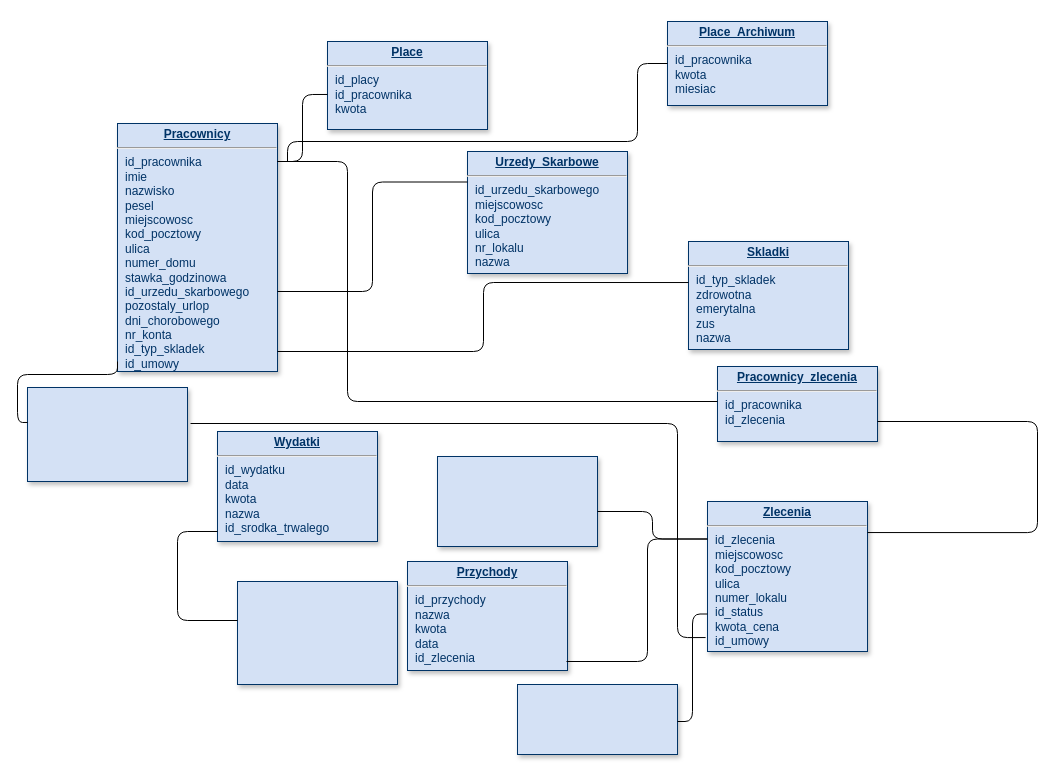
Image size: 1056x779. Some labels were removed from this diagram. Here are the shapes that lost their labels. From the top down, the centre of each, then its label:
At pixel 108 435: "Umowy id_umowy umowa data_zawarcia data_wygasniecia".
At pixel 518 503: "Faktury id_faktury id_zlecenia faktura".
At pixel 318 634: "Srodki_Trwale id_srodka_trwalego nazwa data_zakupu koszt".
At pixel 598 721: "Status id_status nazwa".
